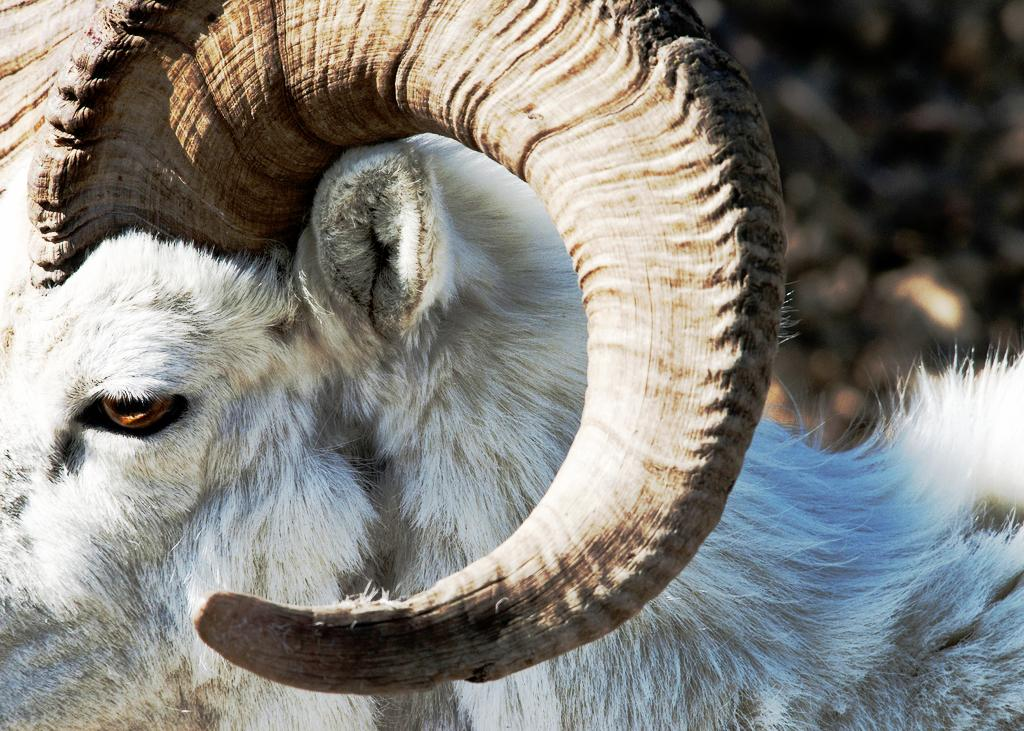Sheep: (23, 44, 944, 672)
